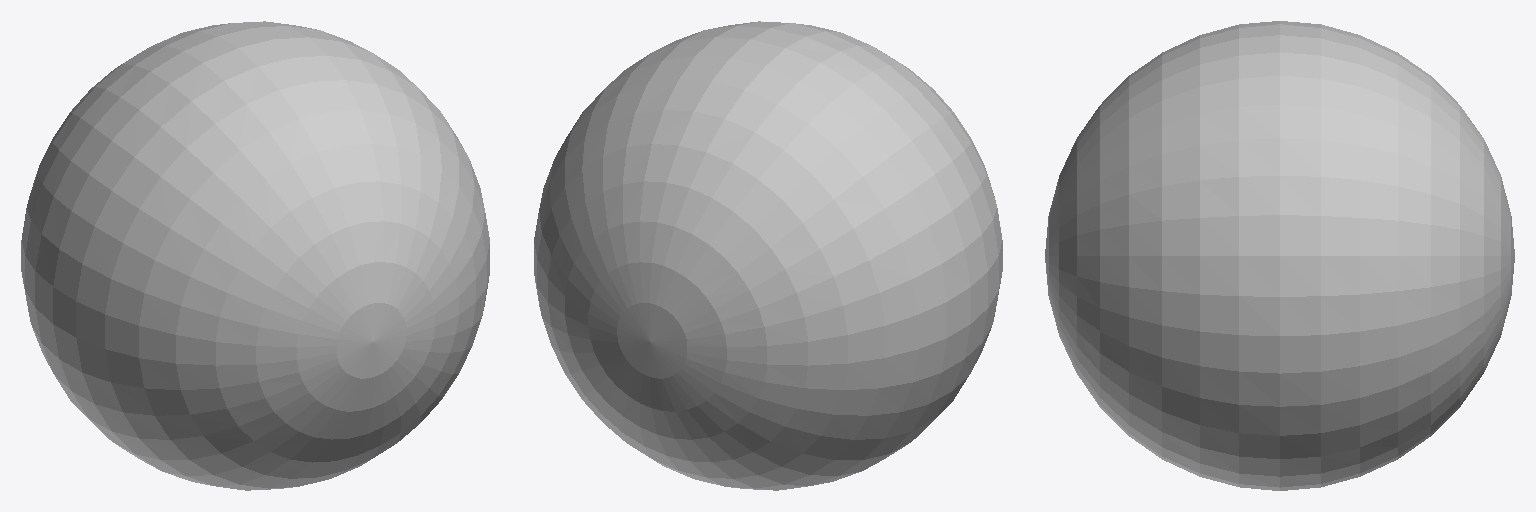
The model's file is Cuerpo.obj.
3 renders of one model, left to right at view 1: azimuth 30°, elevation 25°; view 2: azimuth 150°, elevation 25°; view 3: azimuth 270°, elevation 25°, orthographic.
Visible parts, largest first — view 1: obj_0; view 2: obj_0; view 3: obj_0.
Part boxes in pixels (bbox=[...]): obj_0: bbox=[21, 21, 489, 490]; obj_0: bbox=[534, 21, 1002, 490]; obj_0: bbox=[1045, 21, 1514, 490].
Bounding box in the file's own units: 1 × 1 × 1.01.